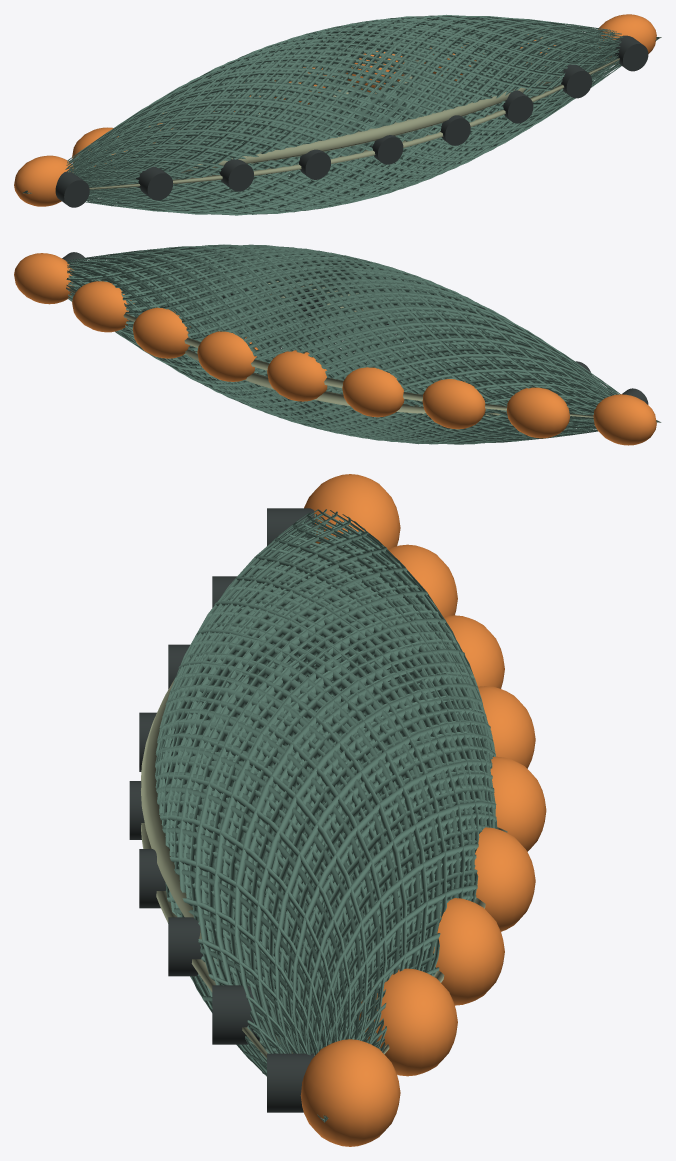
File: trawl_net_open.glb
3 views of the same model, one above another, from view 1: azimuth 30°, elevation 25°; view 2: azimuth 150°, elevation 25°; view 3: azimuth 270°, elevation 25° (orthographic). The views are drawn at different scales.
Parts seen in each view (by area): view 1: trawl_net_open Fixed_NetTwine, trawl_net_open Fixed_Bearing, trawl_net_open Fixed_Boltrope, trawl_net_open Fixed_FloatOrange; view 2: trawl_net_open Fixed_NetTwine, trawl_net_open Fixed_FloatOrange, trawl_net_open Fixed_Boltrope, trawl_net_open Fixed_Bearing; view 3: trawl_net_open Fixed_NetTwine, trawl_net_open Fixed_FloatOrange, trawl_net_open Fixed_Bearing, trawl_net_open Fixed_Boltrope.
Boxes of the visible parts, x1,y1,x2,y2 form: trawl_net_open Fixed_NetTwine: (22, 14, 661, 215); trawl_net_open Fixed_Bearing: (55, 35, 648, 207); trawl_net_open Fixed_Boltrope: (23, 37, 660, 193); trawl_net_open Fixed_FloatOrange: (14, 14, 656, 206); trawl_net_open Fixed_NetTwine: (66, 244, 661, 444); trawl_net_open Fixed_FloatOrange: (14, 253, 656, 445); trawl_net_open Fixed_Boltrope: (66, 273, 659, 422); trawl_net_open Fixed_Bearing: (62, 252, 648, 404); trawl_net_open Fixed_NetTwine: (155, 509, 497, 1122); trawl_net_open Fixed_FloatOrange: (300, 474, 546, 1146); trawl_net_open Fixed_Bearing: (129, 508, 314, 1112); trawl_net_open Fixed_Boltrope: (141, 552, 507, 1121).
Bounding box in the file's own units: 2.5 × 0.5954 × 0.705.
